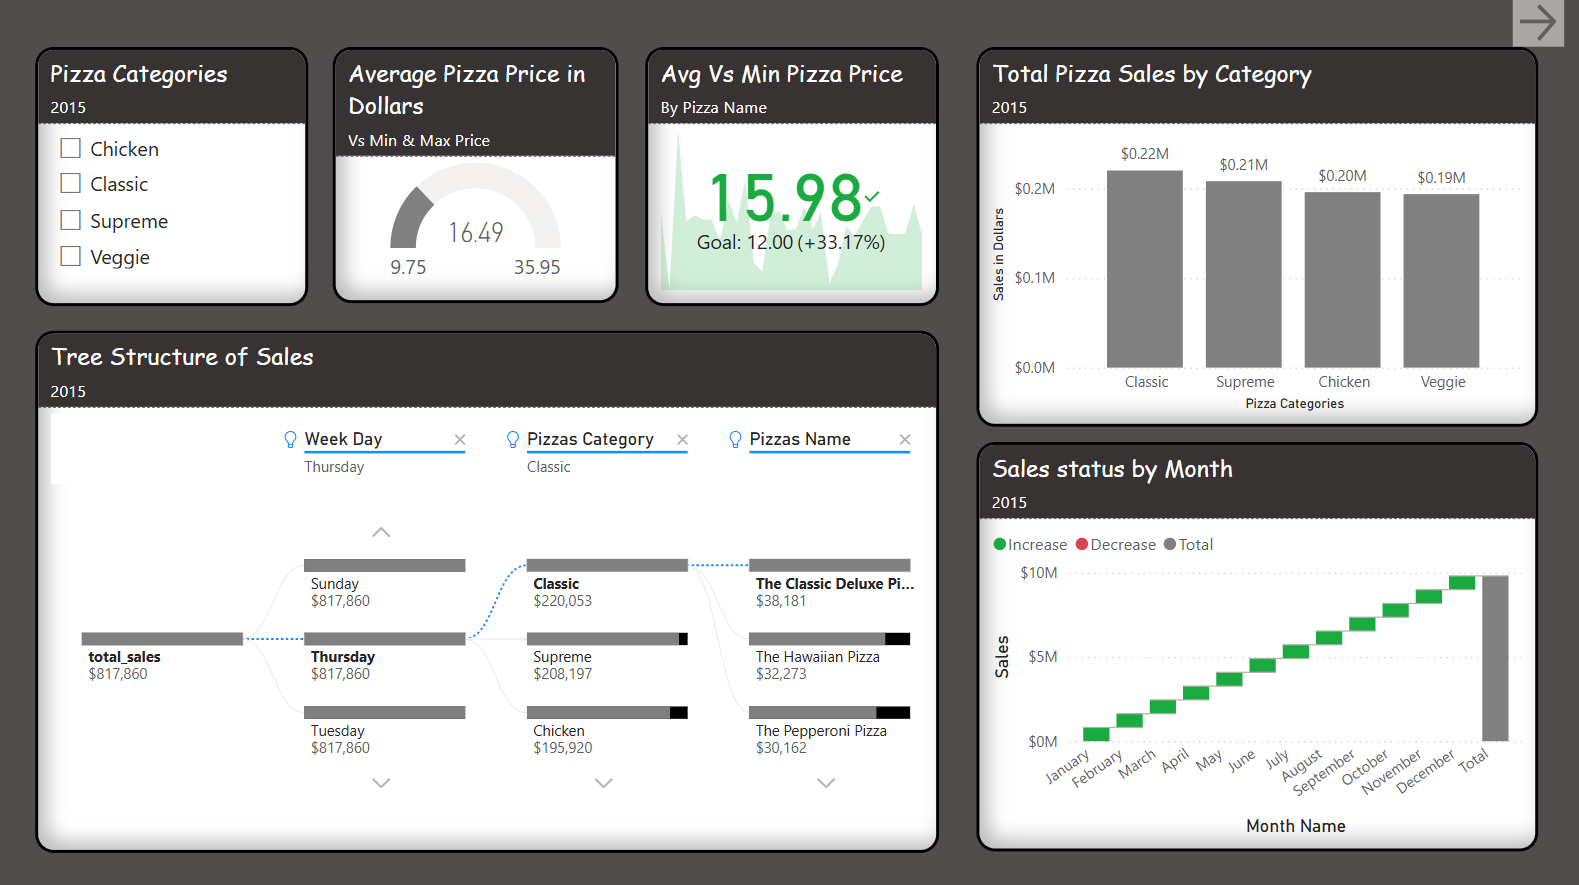

The dashboard page shown, as its layout file describes it:
{"tool":"powerbi","page":{"name":"Page 1","canvas":[1280,720],"ordinal":0},"visuals":[{"type":"clusteredColumnChart","title":"Total Pizza Sales by Category","fields":{"Category":["pizzas.pizzas_type.category"],"Y":["Sum(order_details.Sales)"]},"box":[790.7,40.7,454.7,307],"z":0},{"type":"waterfallChart","title":"Sales status by Month","fields":{"Category":["orders.Month Name"],"Y":["order_details.total_sales"]},"box":[790.7,360.5,454.7,331.4],"z":1000},{"type":"gauge","title":"Average Pizza Price in Dollars","fields":{"MinValue":["Min(order_details.pizzas.price)"],"MaxValue":["Max(order_details.pizzas.price)1"],"Y":["Avg(order_details.pizzas.price)2"]},"box":[269.8,40.7,231.4,207],"z":2000},{"type":"kpi","title":"Avg Vs Min Pizza Price","fields":{"Indicator":["Avg(order_details.pizzas.price)"],"Goal":["Min(order_details.pizzas.price)"],"TrendLine":["pizzas.pizzas_type.name"]},"box":[523.3,40.7,237.2,209.3],"z":3000},{"type":"slicer","title":"Pizza Categories","fields":{"Values":["pizzas.pizzas_type.category"]},"box":[29.1,40.7,220.9,209.3],"z":4000},{"type":"decompositionTreeVisual","title":"Tree Structure of Sales","fields":{"Analyze":["order_details.total_sales"],"ExplainBy":["orders.Week_day","pizzas.pizzas_type.category","pizzas.pizzas_type.name"]},"box":[29.1,269.8,731.4,422.1],"z":5000},{"type":"actionButton","box":[1224.4,1.2,41.9,39.5],"z":6000}]}

Visuals, with their boxes in screenshot pixels (x1, y1, x2, y2), scaled from the page's 1280x720 canvas onto the 1579x885 screenshot:
"Total Pizza Sales by Category" clusteredColumnChart: rect(975, 50, 1536, 427)
"Sales status by Month" waterfallChart: rect(975, 443, 1536, 850)
"Average Pizza Price in Dollars" gauge: rect(333, 50, 618, 304)
"Avg Vs Min Pizza Price" kpi: rect(646, 50, 938, 307)
"Pizza Categories" slicer: rect(36, 50, 308, 307)
"Tree Structure of Sales" decompositionTreeVisual: rect(36, 332, 938, 850)
actionButton: rect(1510, 1, 1562, 50)
